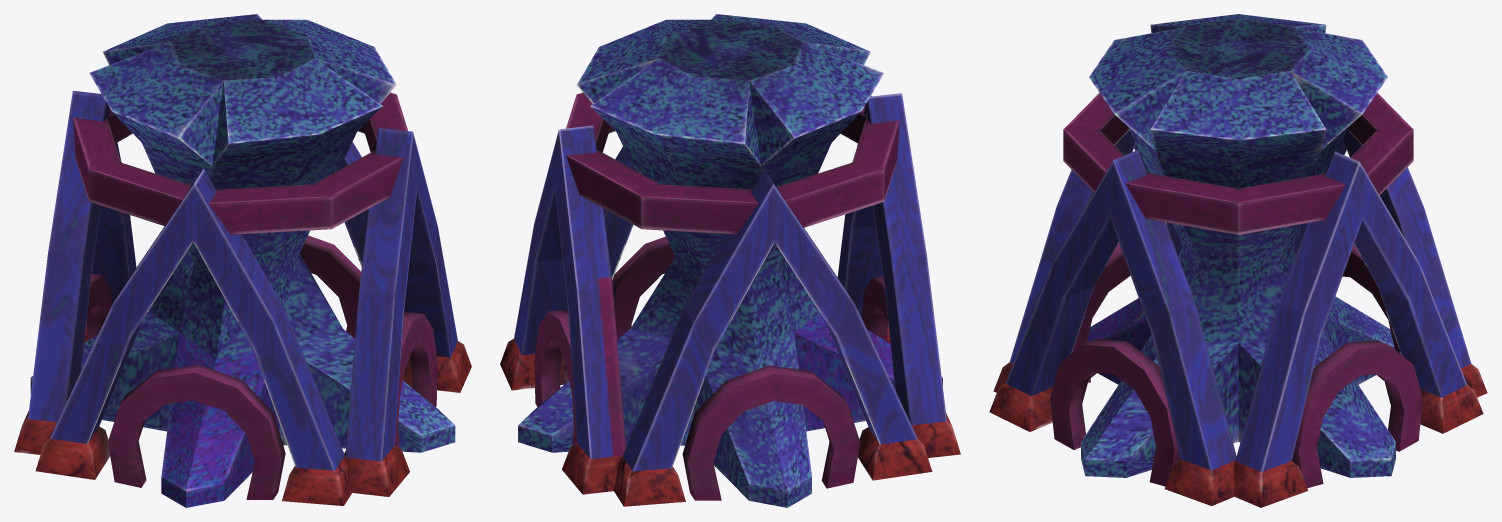
Rendered from HypnoLOD2Base.fbx.
The picture shows the model from 3 angles, left to right: view 1: azimuth 30°, elevation 25°; view 2: azimuth 150°, elevation 25°; view 3: azimuth 270°, elevation 25°; orthographic projection.
Visible parts, largest first — view 1: HypnoLOD2; view 2: HypnoLOD2; view 3: HypnoLOD2.
Part boxes in pixels (x1,y1,x2,y2): HypnoLOD2: (14,14,471,507); HypnoLOD2: (500,14,960,507); HypnoLOD2: (989,14,1487,507).
Size of the model in its own units: 3.12 by 2.53 by 3.12.
1 material, 1 textured.
